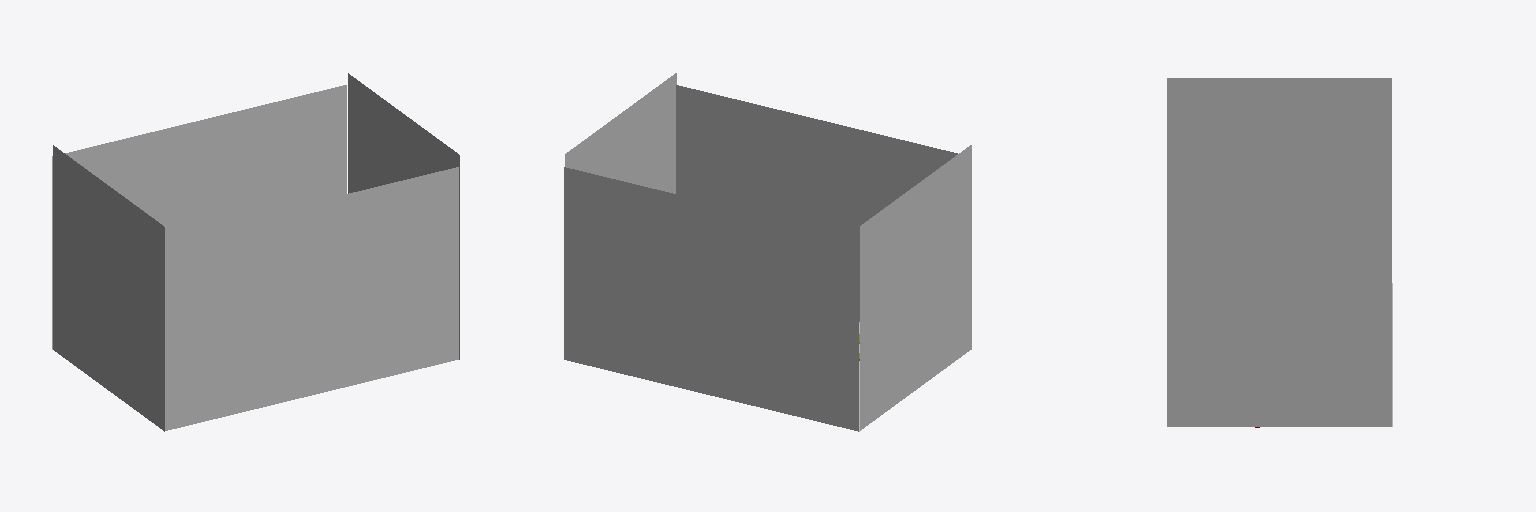
Rendered from tables.obj.
3 renders of one model, left to right at view 1: azimuth 30°, elevation 25°; view 2: azimuth 150°, elevation 25°; view 3: azimuth 270°, elevation 25°, orthographic.
Visible parts, largest first — view 1: Plane.001_Plane.006, Plane.004, Plane.005, Plane.002; view 2: Plane.004, Plane.001_Plane.006, Plane.005, Plane.002; view 3: Plane.002, Plane.005.
Boxes of the visible parts, <box> form: Plane.001_Plane.006: <box>165,167,458,430</box>; Plane.004: <box>52,85,346,348</box>; Plane.005: <box>53,145,164,431</box>; Plane.002: <box>348,73,459,359</box>; Plane.004: <box>564,167,858,431</box>; Plane.001_Plane.006: <box>676,85,957,321</box>; Plane.005: <box>860,145,971,430</box>; Plane.002: <box>565,73,676,193</box>; Plane.002: <box>1167,222,1391,426</box>; Plane.005: <box>1167,78,1391,221</box>.
Size of the model in its own units: 43.88 by 30.26 by 29.03.